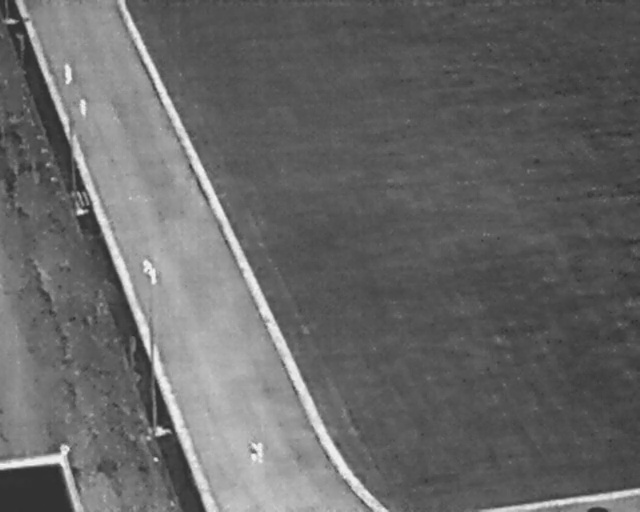Person: (61, 62, 74, 85), (247, 439, 259, 463), (78, 95, 89, 121), (147, 267, 159, 286), (141, 257, 152, 276), (256, 441, 264, 464)
